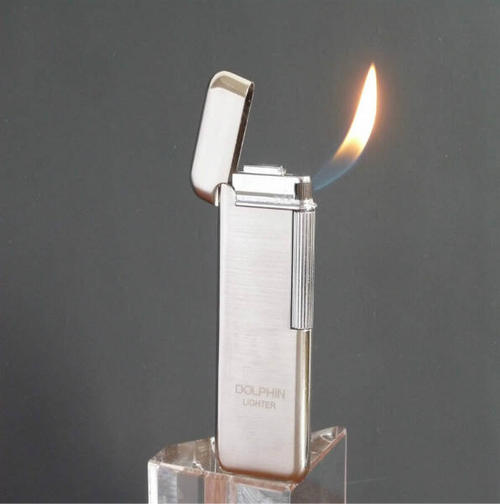fire: (304, 55, 382, 200)
